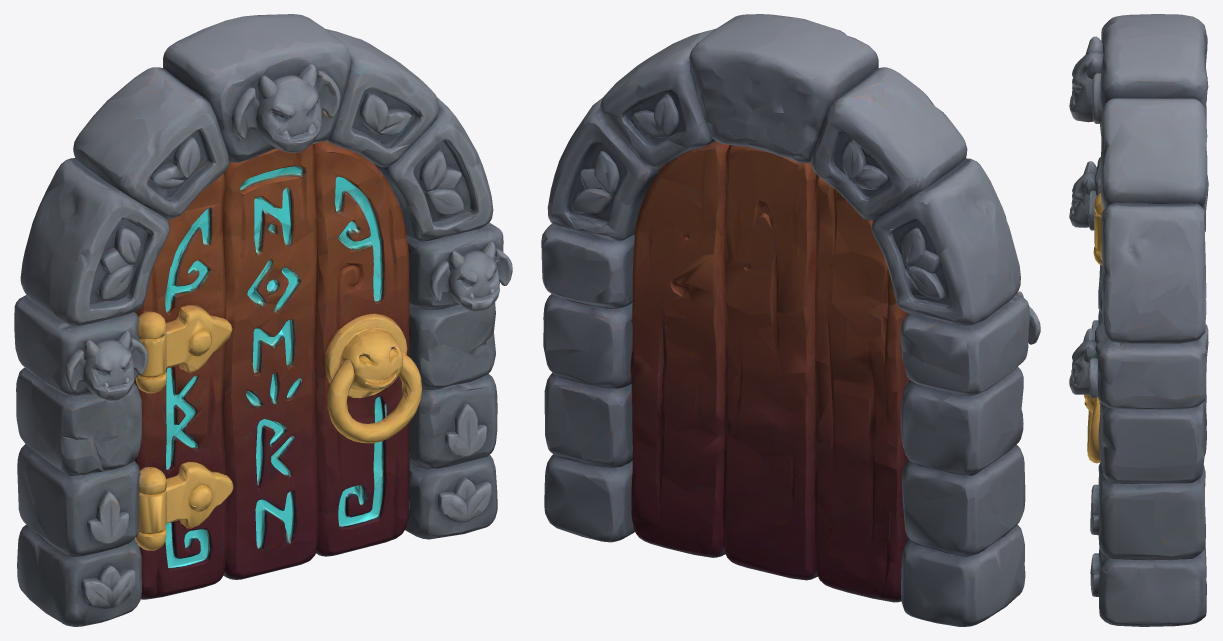
Rendered from puertafantasia.glb.
3 views of the same model, side by side, from view 1: azimuth 30°, elevation 25°; view 2: azimuth 150°, elevation 25°; view 3: azimuth 270°, elevation 25° (orthographic). The views are drawn at different scales.
Parts seen in each view (by area): view 1: output_unwrapped; view 2: output_unwrapped; view 3: output_unwrapped.
Boxes of the visible parts, x1,y1,x2,y2 form: output_unwrapped: [14, 14, 512, 626]; output_unwrapped: [541, 14, 1040, 626]; output_unwrapped: [1069, 14, 1208, 626].
Size of the model in its own units: 1.67 by 1.9 by 0.482.
Materials: 1 (1 with a texture image).
